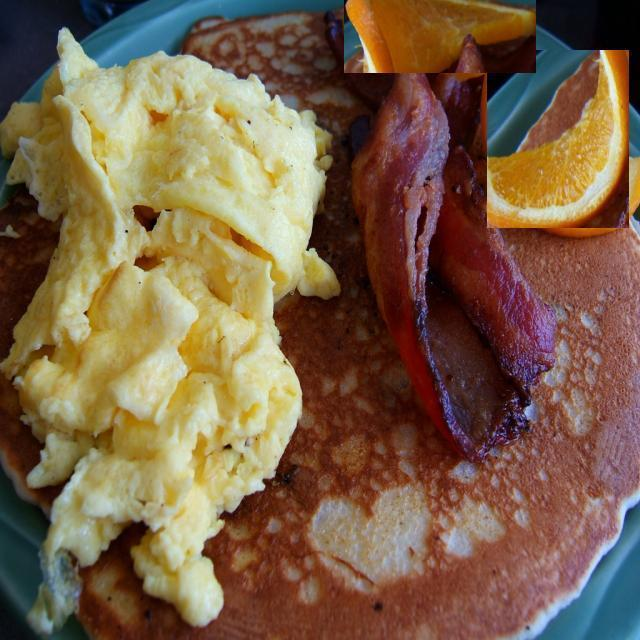Orange: (487, 50, 629, 228), (344, 0, 536, 73)
